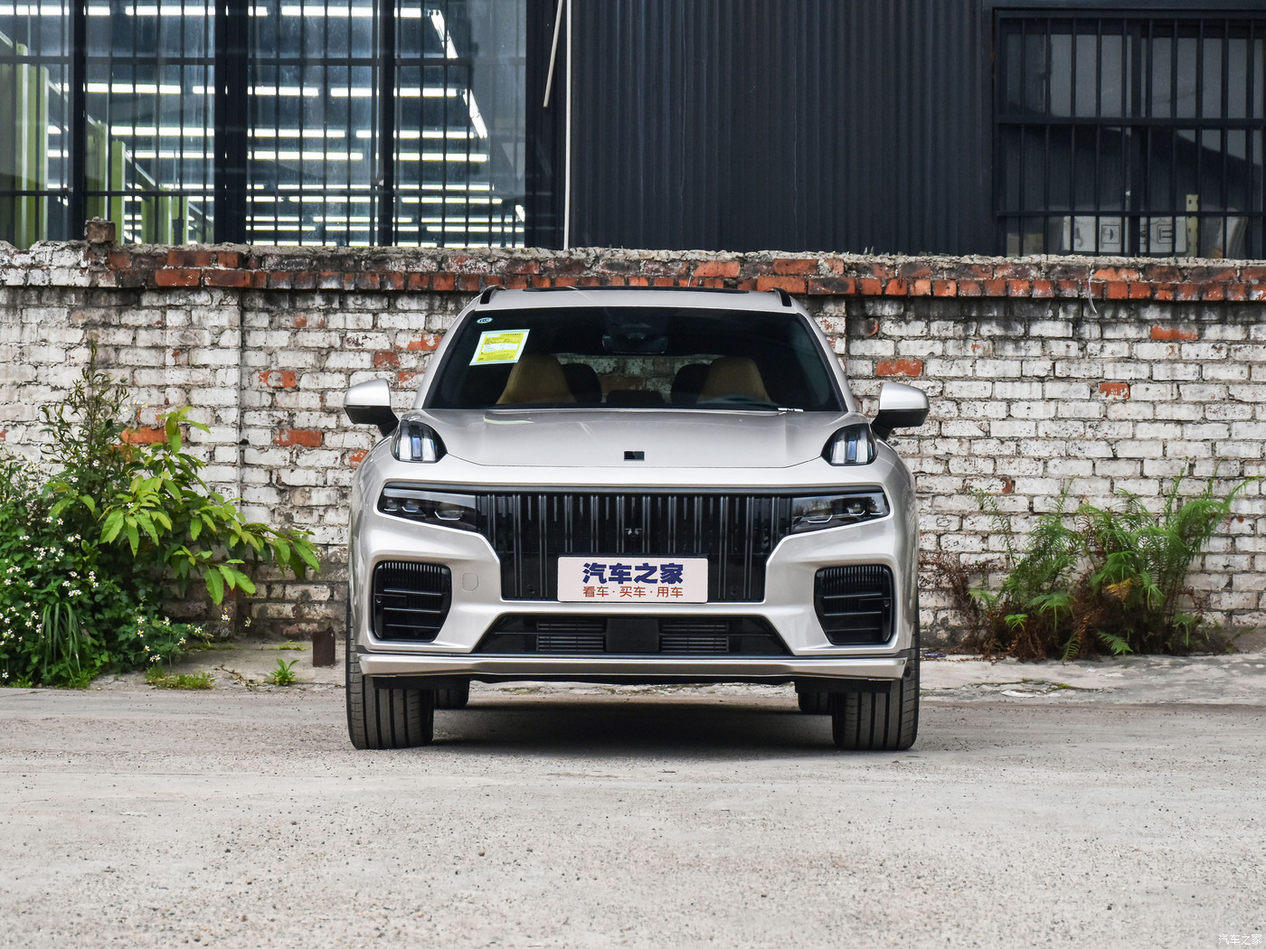LINK&CO: (624, 451, 645, 460)
